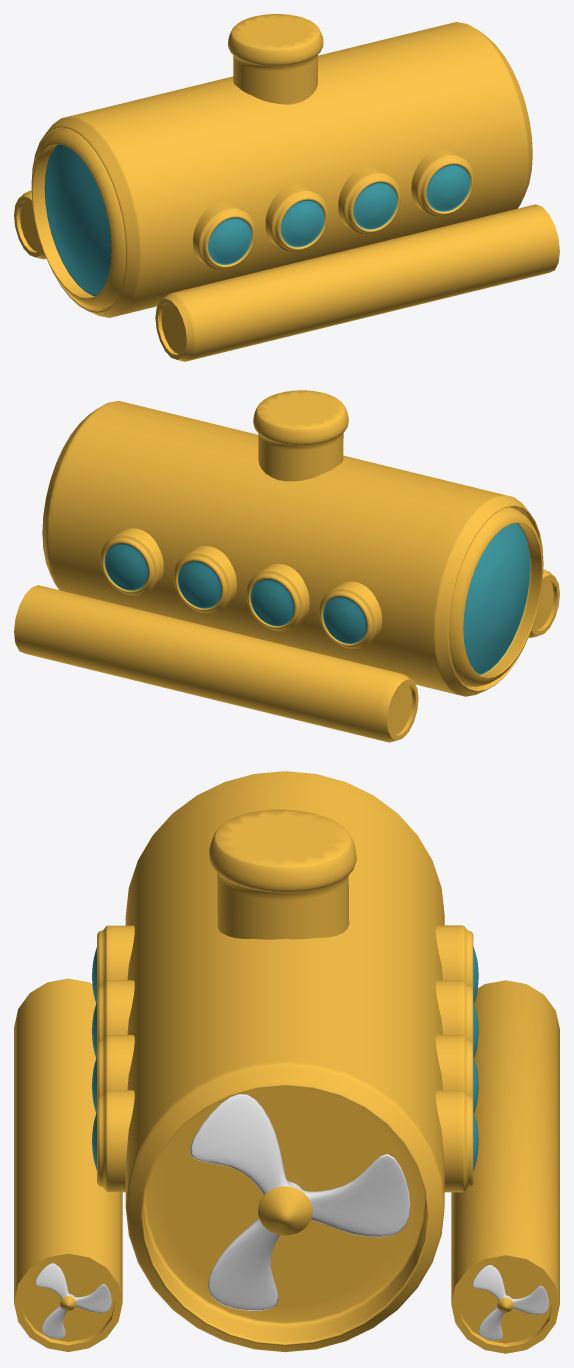
The model's file is Submarine_test_02.FBX.
The picture shows the model from 3 angles, top to bottom: view 1: azimuth 30°, elevation 25°; view 2: azimuth 150°, elevation 25°; view 3: azimuth 270°, elevation 25°; orthographic projection. The views are drawn at different scales.
Visible parts, largest first — view 1: MainSub, BallastTankL, BallastTankR; view 2: MainSub, BallastTankR, BallastTankL; view 3: MainSub, BallastTankR, BallastTankL, PropellerMain, PropellerRight001, PropellerRight.
Part boxes in pixels (x1=…): MainSub: x1=31, y1=14, x2=532, y2=317; BallastTankL: x1=155, y1=204, x2=559, y2=361; BallastTankR: x1=14, y1=190, x2=46, y2=259; MainSub: x1=42, y1=390, x2=543, y2=696; BallastTankR: x1=14, y1=585, x2=418, y2=742; BallastTankL: x1=528, y1=569, x2=559, y2=637; MainSub: x1=92, y1=771, x2=478, y2=1352; BallastTankR: x1=451, y1=980, x2=559, y2=1353; BallastTankL: x1=14, y1=978, x2=122, y2=1351; PropellerMain: x1=190, y1=1094, x2=410, y2=1310; PropellerRight001: x1=35, y1=1263, x2=111, y2=1338; PropellerRight: x1=472, y1=1265, x2=548, y2=1340.
Size of the model in its own units: 68.25 by 36.88 by 49.56.
